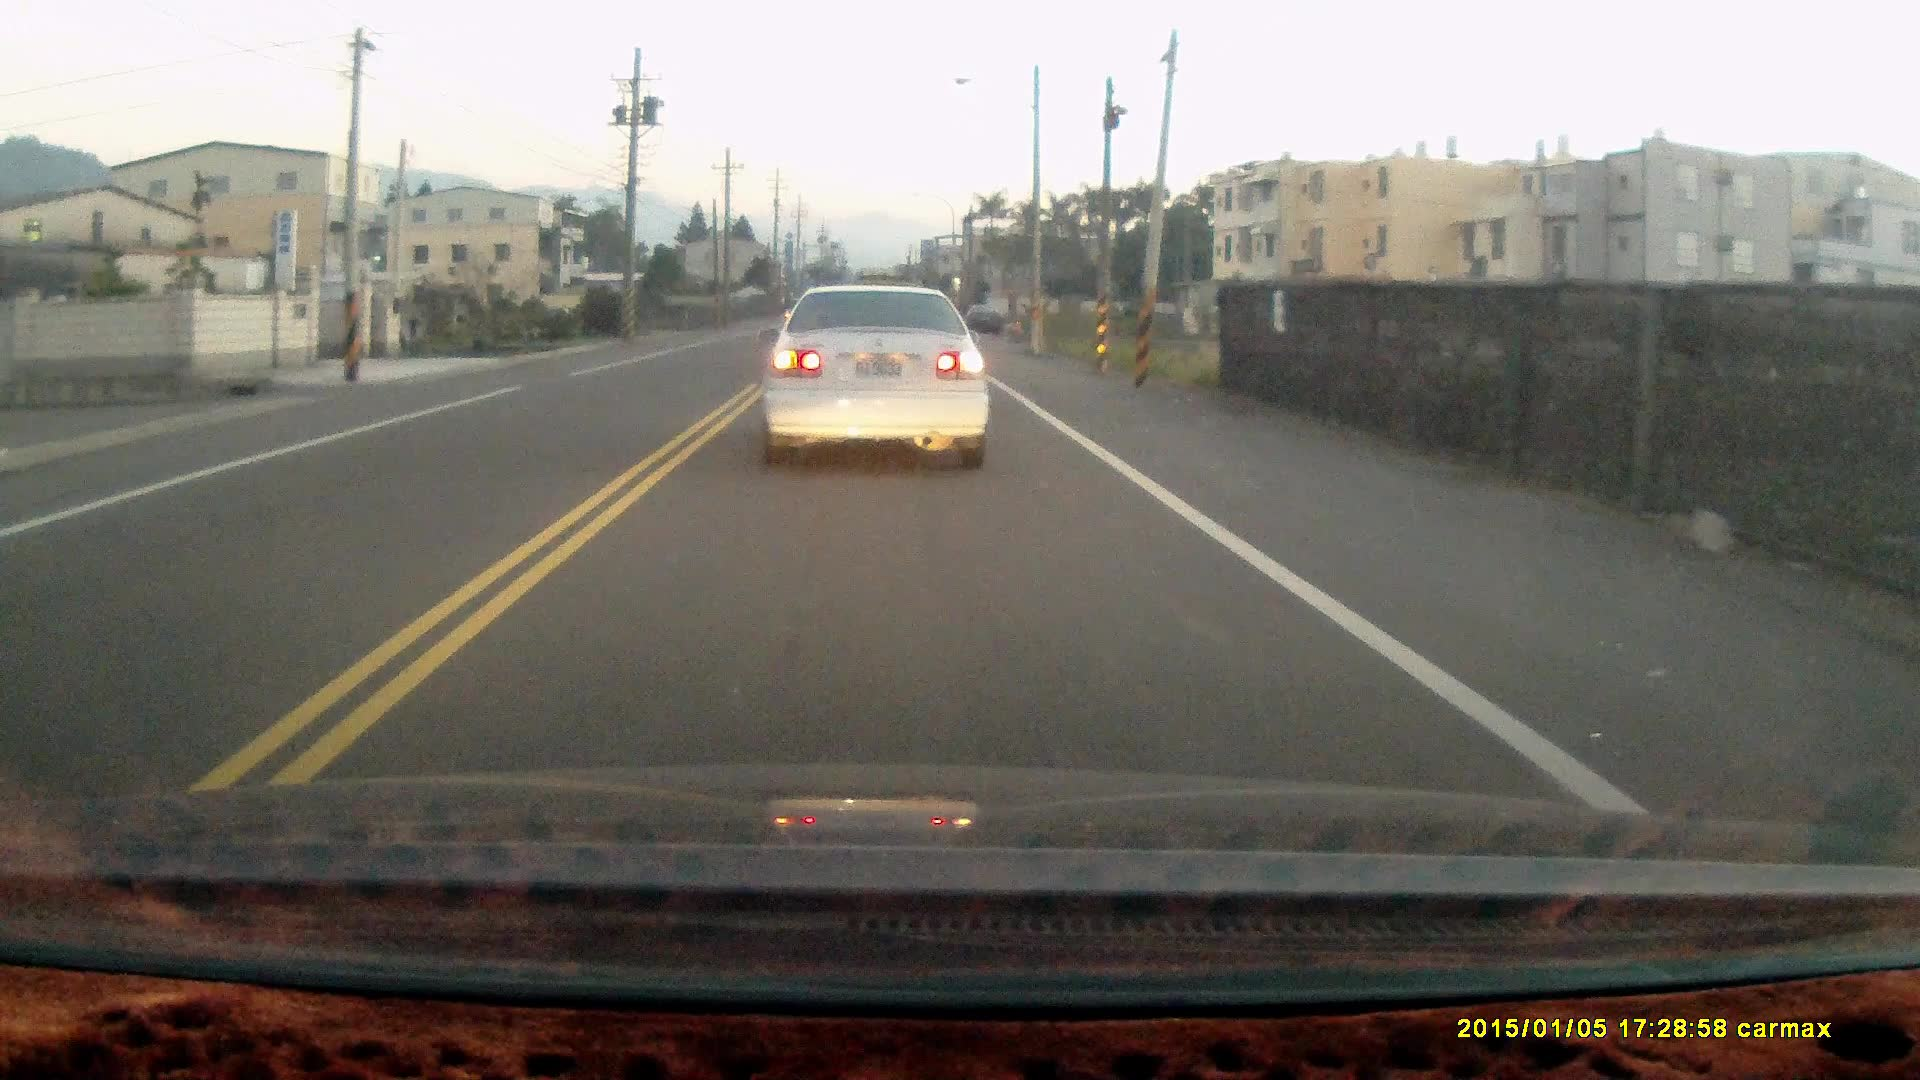vehicle: (760, 286, 996, 476)
